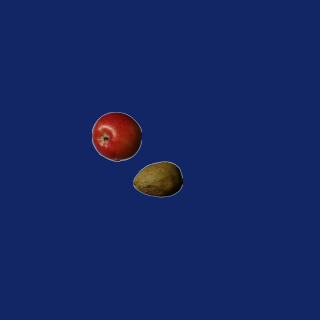Apple Braeburn: (91, 111, 141, 161)
Papaya: (132, 154, 182, 204)
